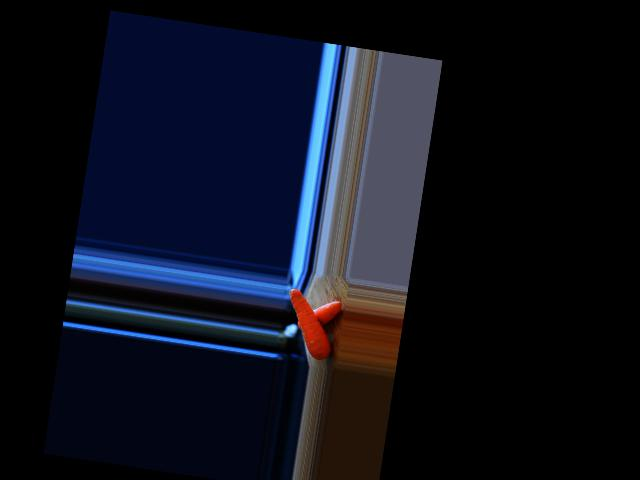carrot: (296, 297, 341, 336)
